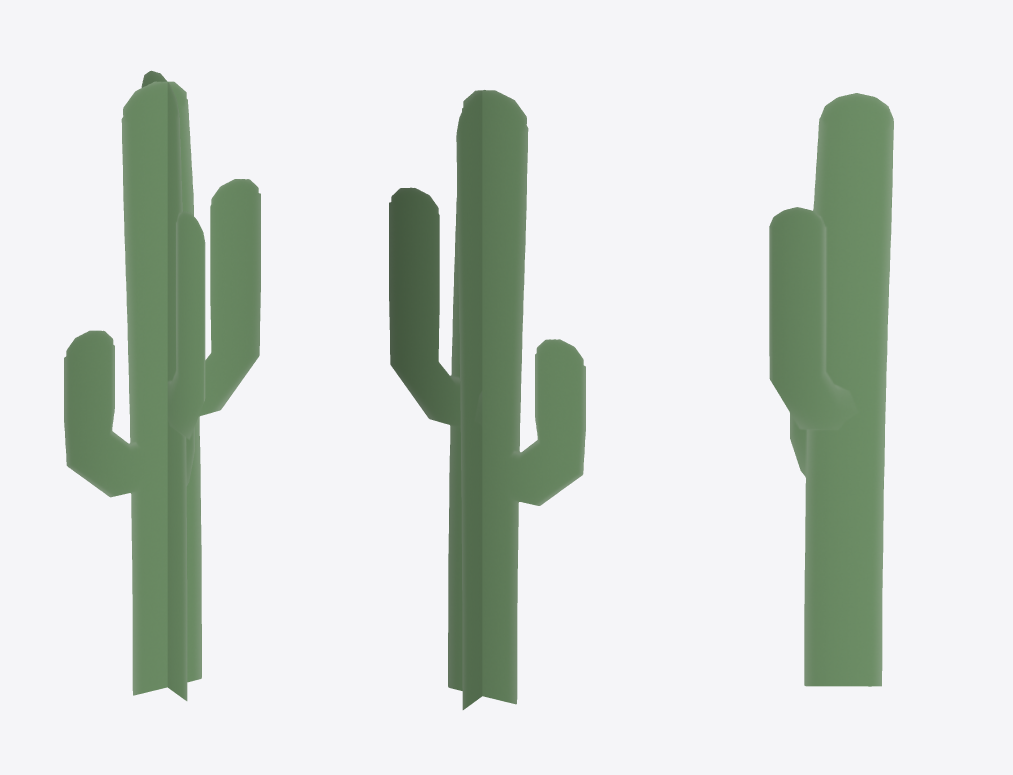
The model's file is saguaro_2_far.glb.
3 views of the same model, side by side, from view 1: azimuth 30°, elevation 25°; view 2: azimuth 150°, elevation 25°; view 3: azimuth 270°, elevation 25° (orthographic). The views are drawn at different scales.
Parts seen in each view (by area): view 1: saguaro_2_far; view 2: saguaro_2_far; view 3: saguaro_2_far.
Boxes of the visible parts, x1,y1,x2,y2 form: saguaro_2_far: (64,70,260,700); saguaro_2_far: (389,90,585,709); saguaro_2_far: (769,93,893,686).
Size of the model in its own units: 2.56 by 5.11 by 2.56.
1 material, 1 textured.
